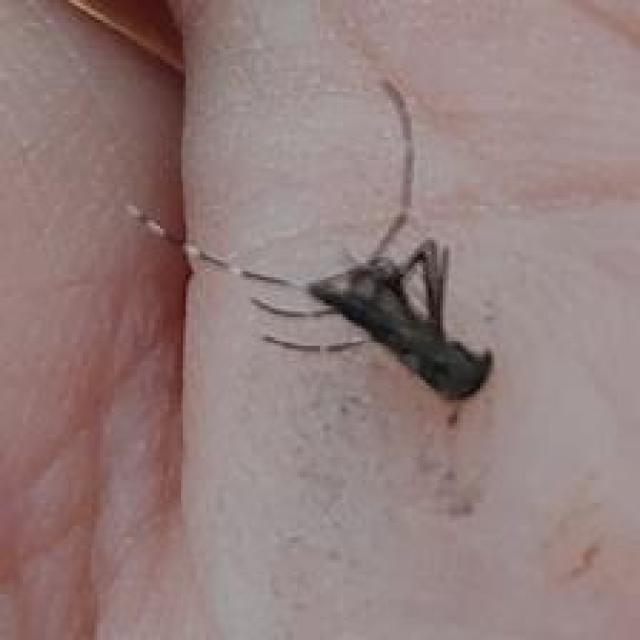Aedes albopictus: (126, 76, 494, 407)
